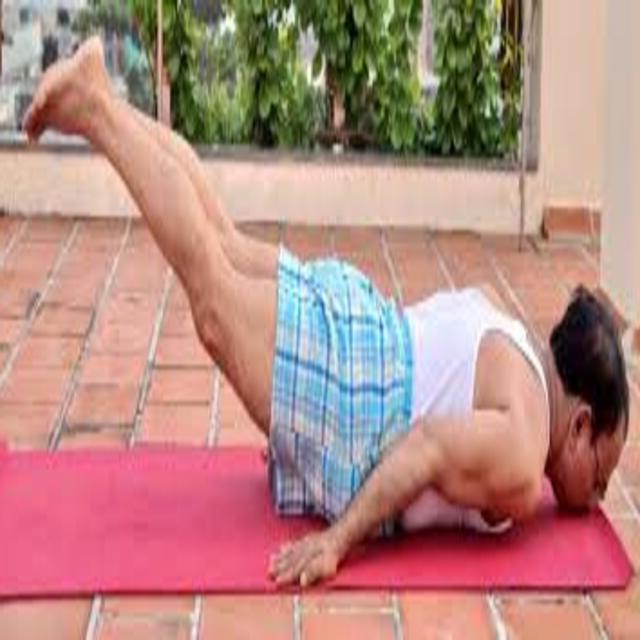Locust_Pose: (23, 29, 632, 597)
